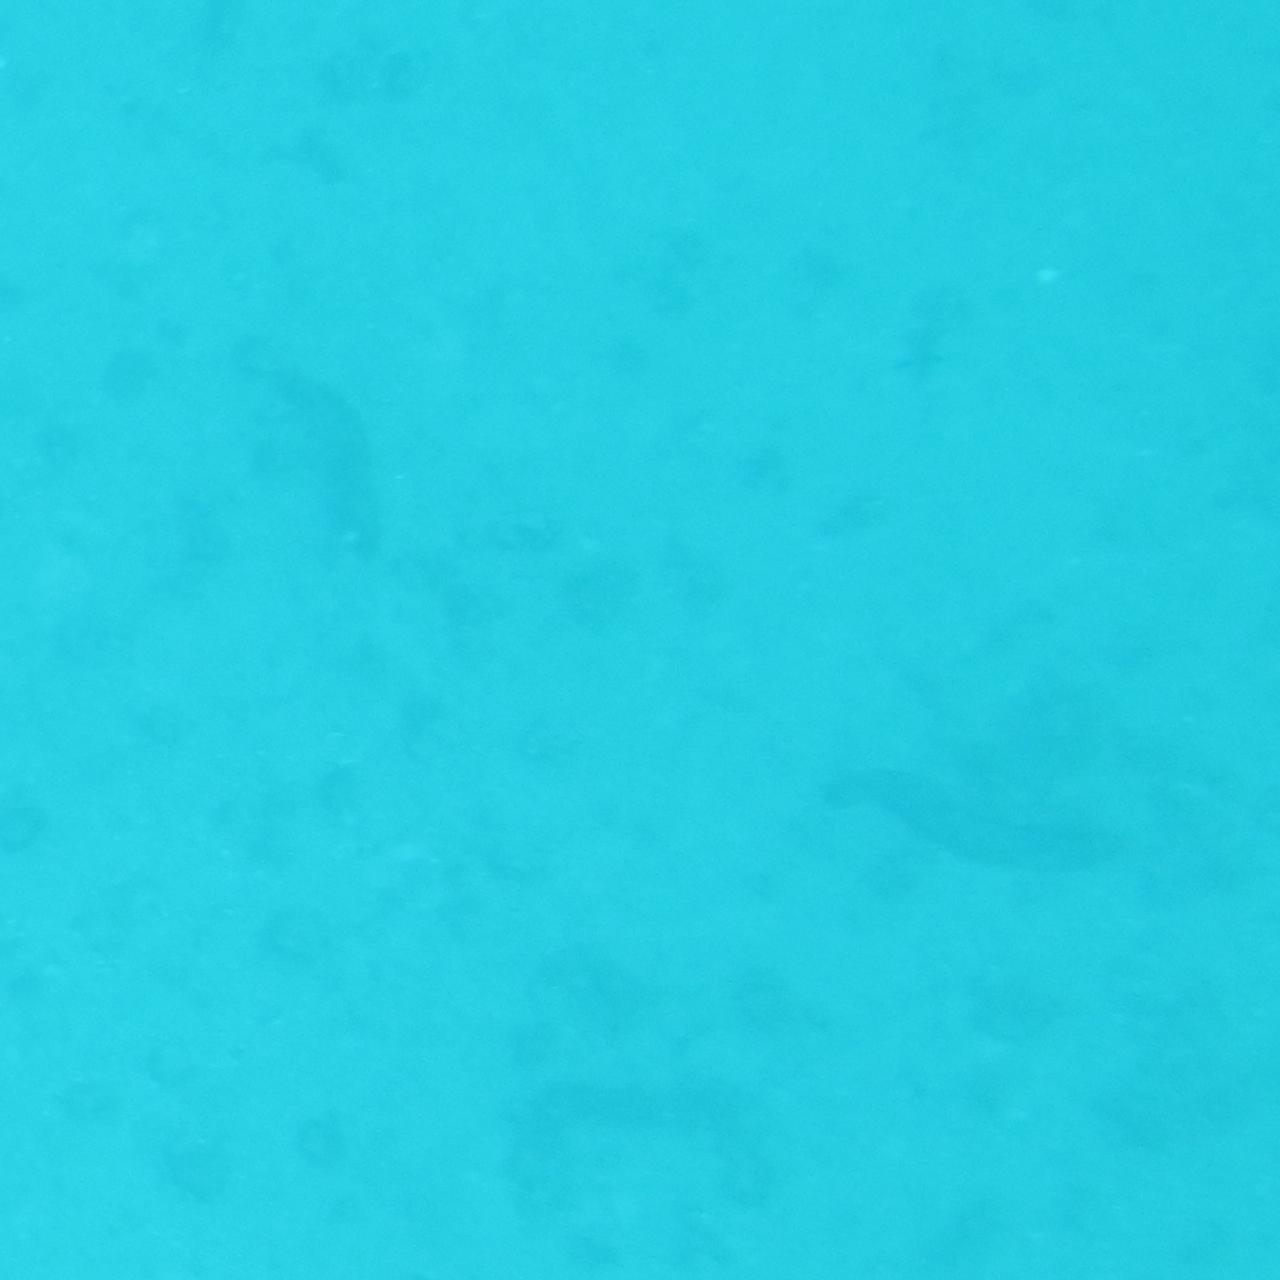Holothuria tubulosa: (210, 308, 394, 584), (801, 776, 1155, 894)
